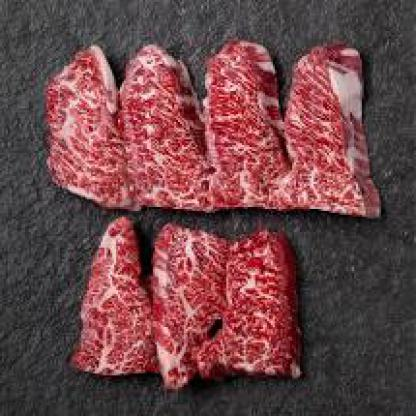beef: (50, 52, 368, 211), (84, 223, 316, 383)
